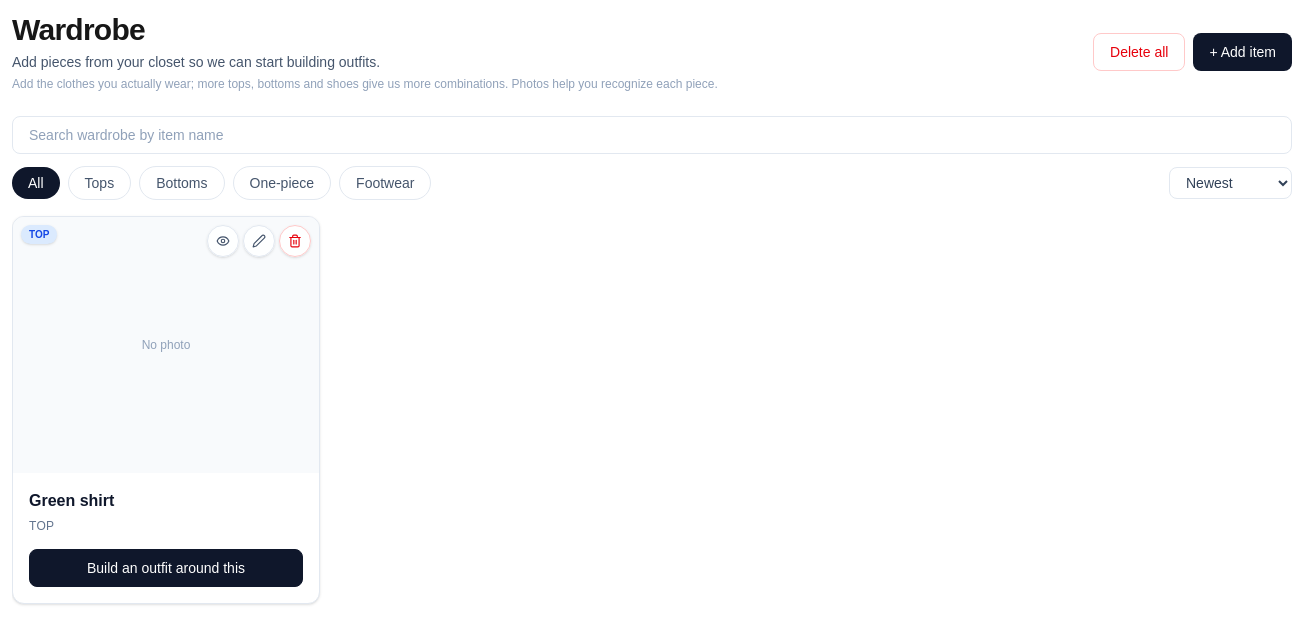
Test: keeps a garment added after the acknowledged delete when the success reload finds it
Check: the heading "Green shirt" is shown, box [29,492,114,509]
Click the button "Delete all". click: (1139, 52)
box: [1093,33,1186,71]
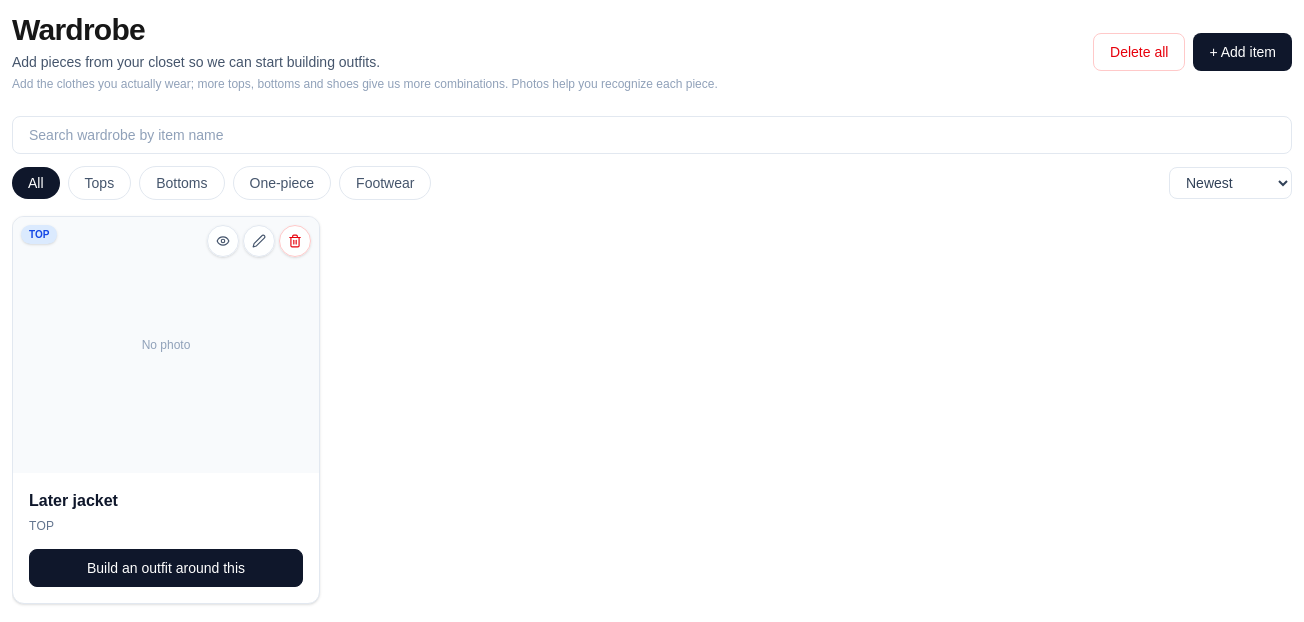
Check: the heading "Later jacket" is shown, box [29,492,118,509]
Check: the heading "Green shirt" is gone
